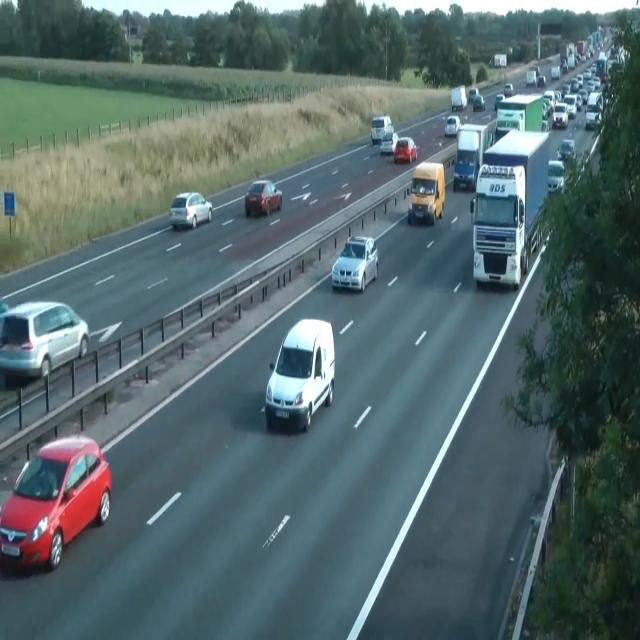bus: (0, 434, 112, 572), (331, 234, 379, 292), (169, 191, 213, 229), (245, 179, 282, 217), (394, 136, 419, 164), (547, 159, 565, 195), (379, 130, 398, 156), (556, 139, 576, 161), (444, 114, 460, 137), (564, 94, 576, 118), (472, 94, 486, 111), (494, 92, 505, 110), (468, 87, 479, 103), (0, 300, 10, 316), (503, 83, 513, 97), (551, 65, 560, 79), (536, 75, 546, 87)
jeep: (264, 316, 335, 432), (0, 300, 90, 383), (407, 160, 445, 225), (552, 101, 568, 129)
minibus: (470, 128, 550, 289), (452, 118, 497, 192), (495, 94, 545, 142), (371, 114, 393, 146), (451, 85, 467, 111), (493, 54, 507, 68)
